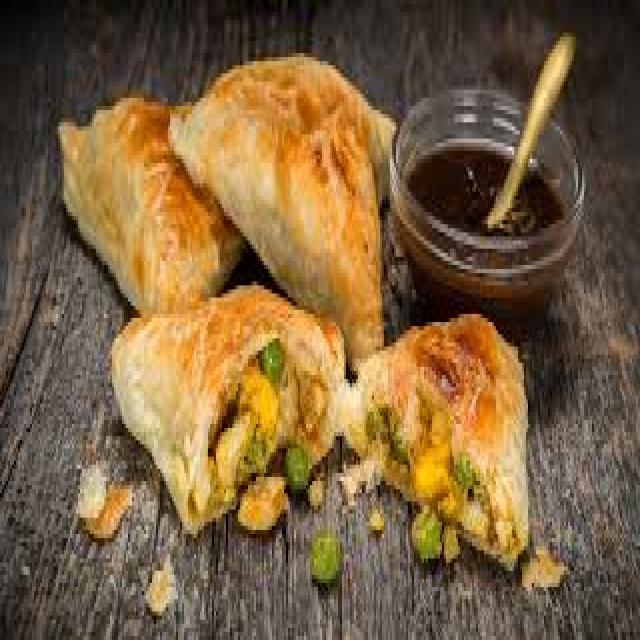SAMOSA: (113, 291, 525, 553), (59, 59, 395, 362)
